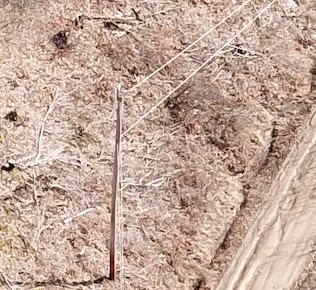pole: (104, 84, 141, 281)
